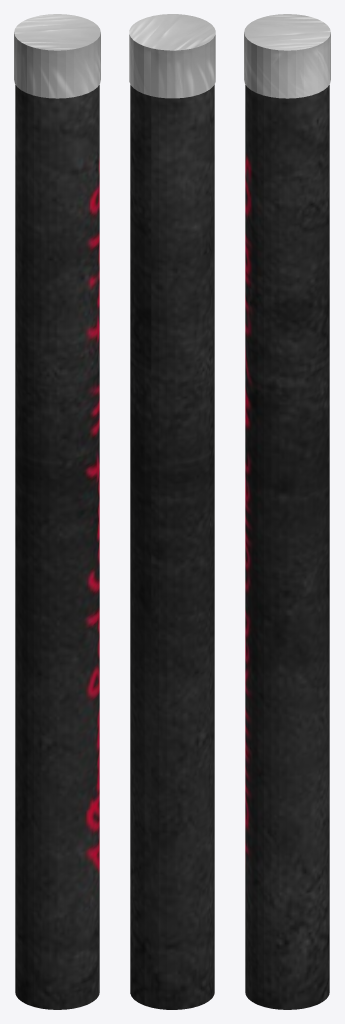
File: 40mmRedCometTrailCandle.fbx
The picture shows the model from 3 angles, left to right: view 1: azimuth 90°, elevation 25°; view 2: azimuth 150°, elevation 25°; view 3: azimuth 270°, elevation 25°; orthographic projection.
Visible parts, largest first — view 1: 40mmCandle, Top Cap; view 2: 40mmCandle, Top Cap; view 3: 40mmCandle, Top Cap.
Boxes of the visible parts, x1,y1,x2,y2 form: 40mmCandle: [15, 85, 99, 1009]; Top Cap: [14, 14, 100, 98]; 40mmCandle: [130, 84, 214, 1009]; Top Cap: [129, 14, 215, 98]; 40mmCandle: [245, 85, 329, 1009]; Top Cap: [244, 14, 330, 98].
Bounding box in the file's own units: 8.2 × 100 × 8.2.
